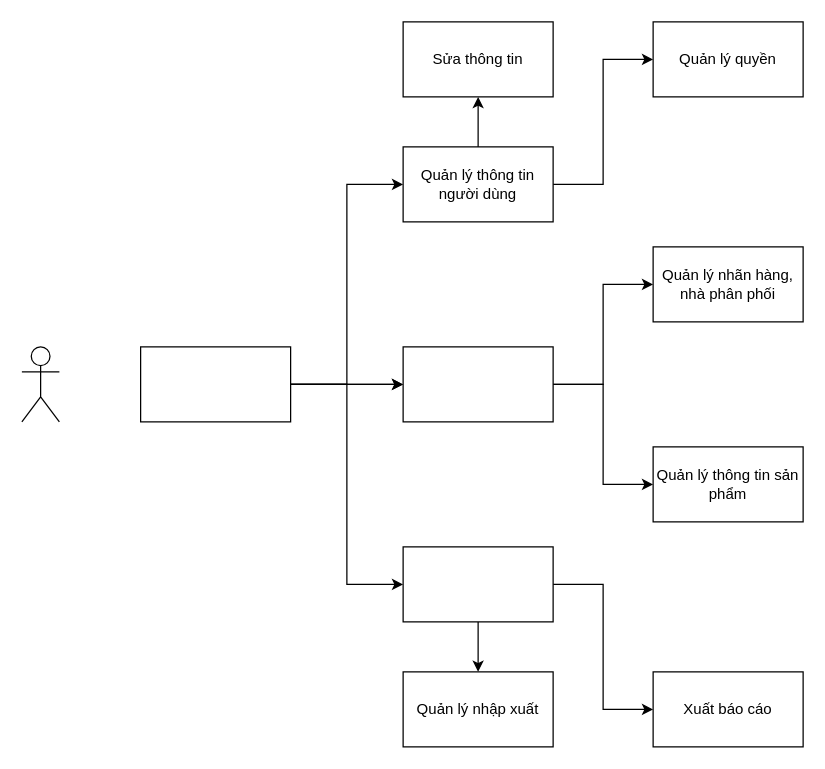
Image size: 825x769. Some labels were removed from this diagram. The shapes that lost their labels are listed below. From the top down, each one's centre as x and y in pixels, then its label:
At [40,384]: "Actor".
At [215,384]: "Login".
At [477,384]: "Quản lý sản phẩm".
At [477,584]: "Quản lý kho".
